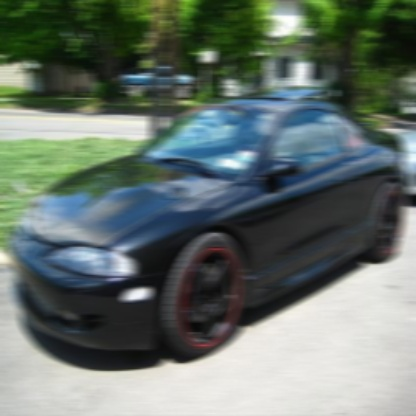Vehicle: (6, 98, 406, 361)
